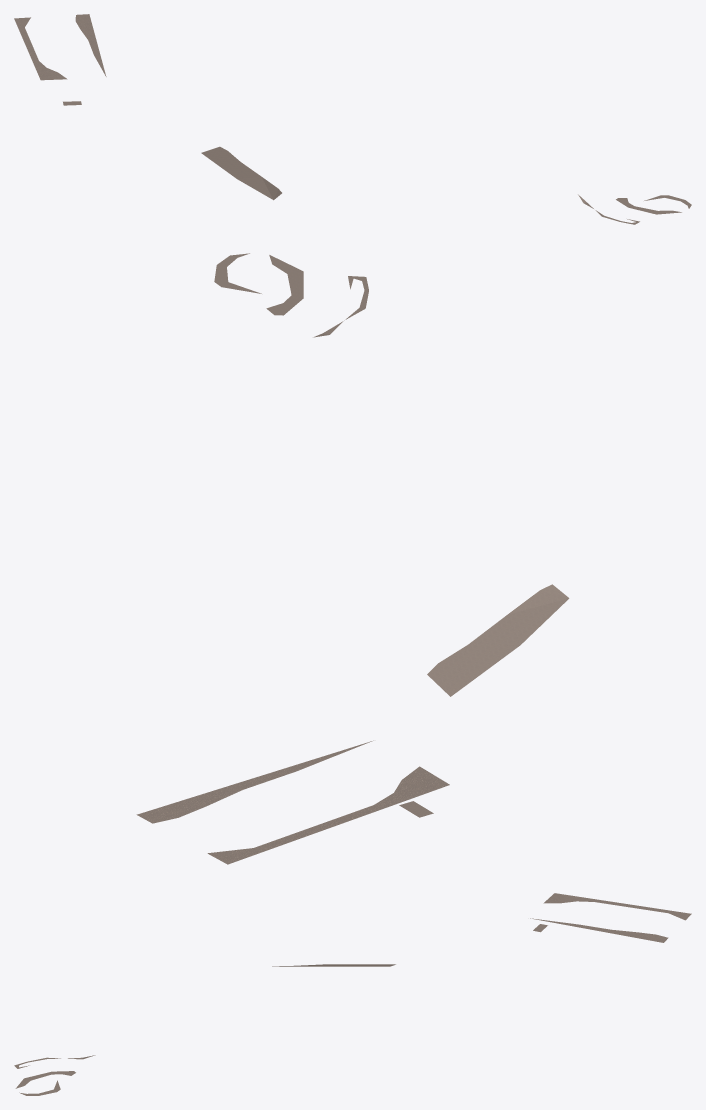
Rendered from kd_connection_world-inner_surface_19_16.glb.
3 renders of one model, top to bottom at view 1: azimuth 30°, elevation 25°; view 2: azimuth 150°, elevation 25°; view 3: azimuth 270°, elevation 25°, orthographic. The views are drawn at different scales.
Visible parts, largest first — view 1: kd_connection_world-inner_surface_19_16; view 2: kd_connection_world-inner_surface_19_16; view 3: kd_connection_world-inner_surface_19_16.
Part boxes in pixels (x1,y1,x2,y2): kd_connection_world-inner_surface_19_16: (14,14,691,224); kd_connection_world-inner_surface_19_16: (136,253,569,864); kd_connection_world-inner_surface_19_16: (14,893,691,1095).
Size of the model in its own units: 94.89 by 7.94 by 149.
Materials: 1 (1 with a texture image).
